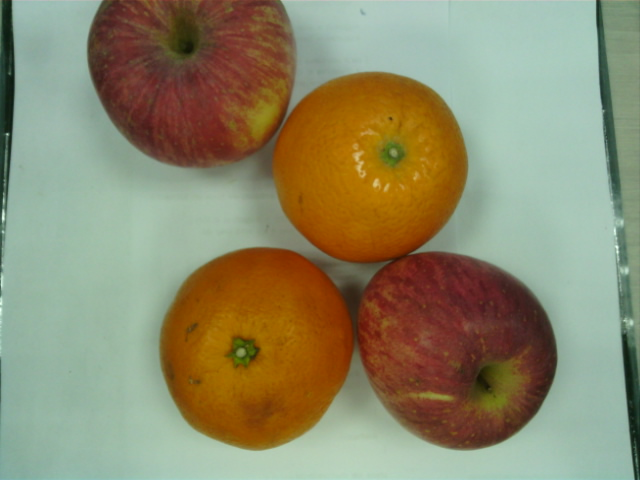normal_apple: (357, 251, 557, 451), (88, 1, 295, 169)
normal_orange: (160, 247, 355, 452), (273, 72, 467, 262)
